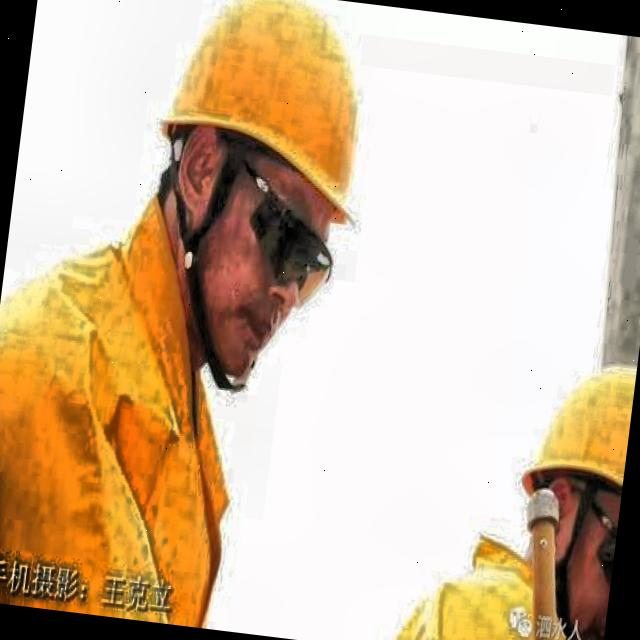helmet: (105, 0, 405, 415), (498, 346, 636, 640)
